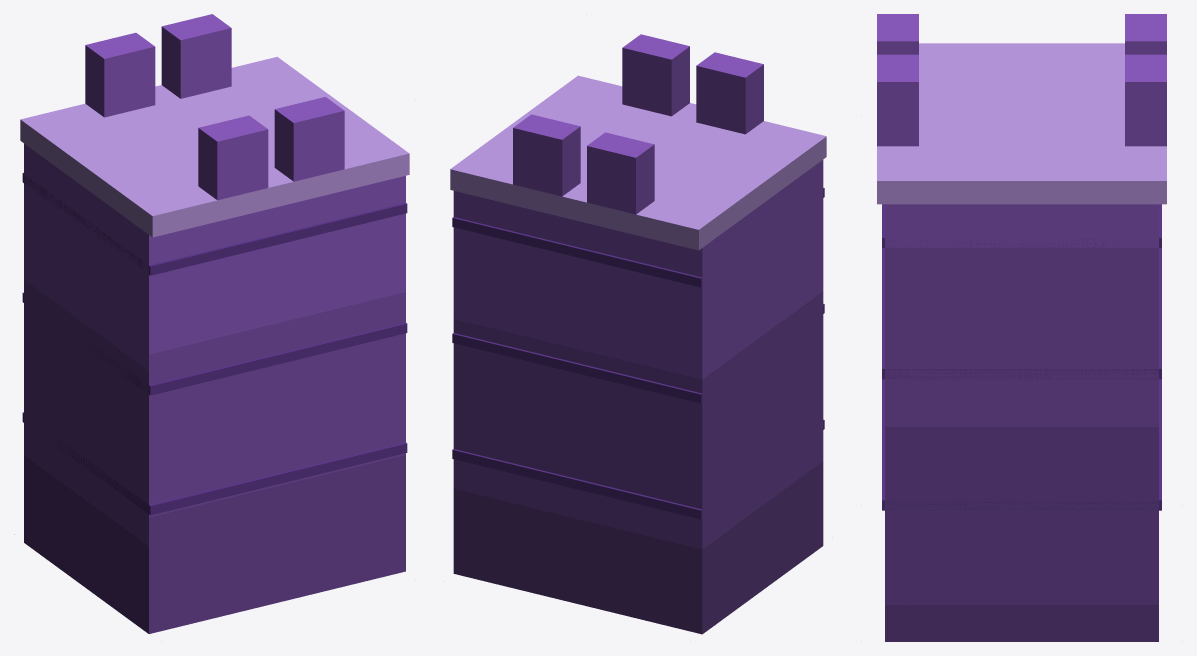
Rendered from perimeter_wall_crystal_straight.glb.
The picture shows the model from 3 angles, left to right: view 1: azimuth 30°, elevation 25°; view 2: azimuth 150°, elevation 25°; view 3: azimuth 270°, elevation 25°; orthographic projection. The views are drawn at different scales.
Size of the model in its own units: 2.02 by 3.6 by 2.
Materials: 1 (1 with a texture image).
